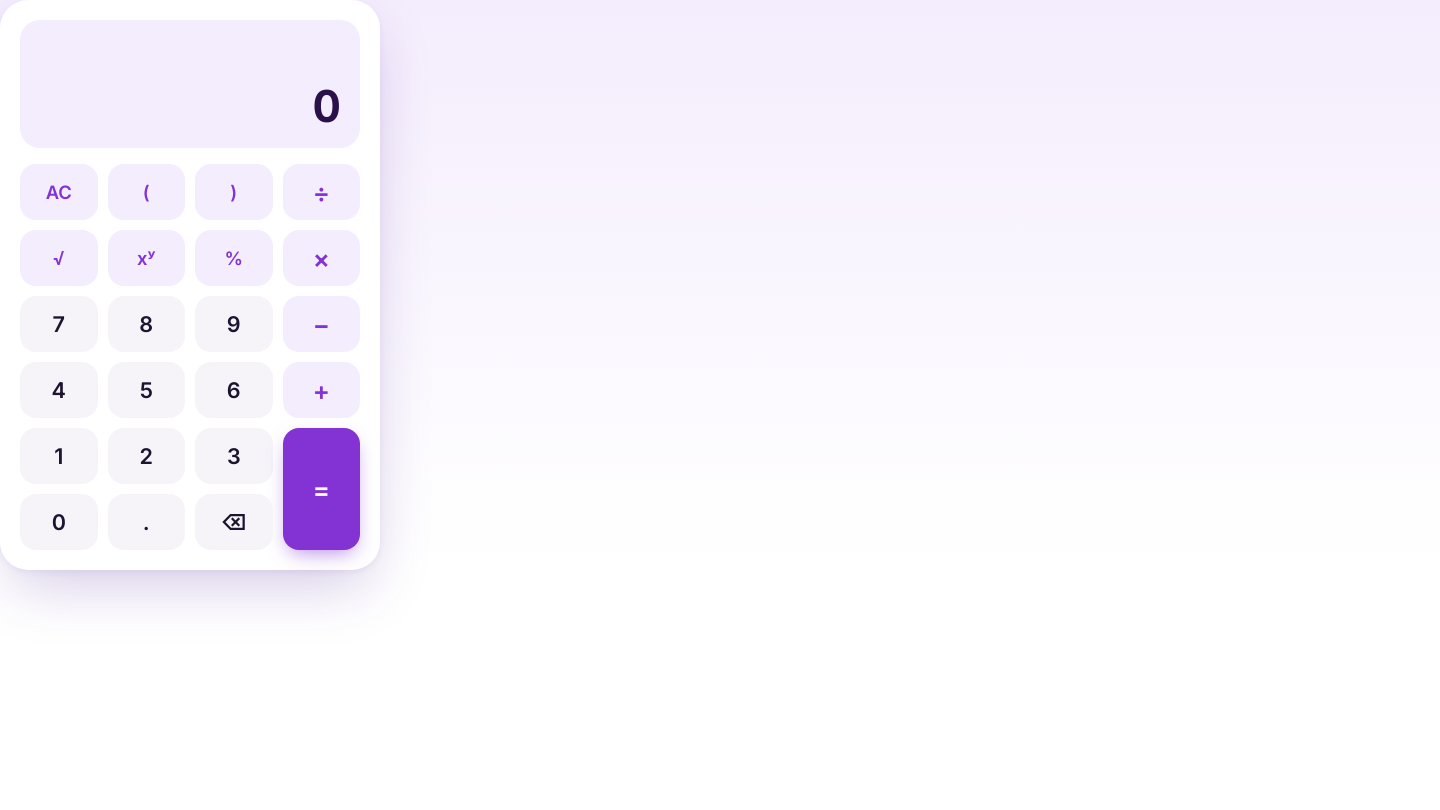
Test: Calculator › shows a friendly message when the server is unreachable
What coordinates should you click on to do the following:
click the button "1"
I would click on:
 (59, 456)
Its box is left=20, top=428, right=98, bottom=484.
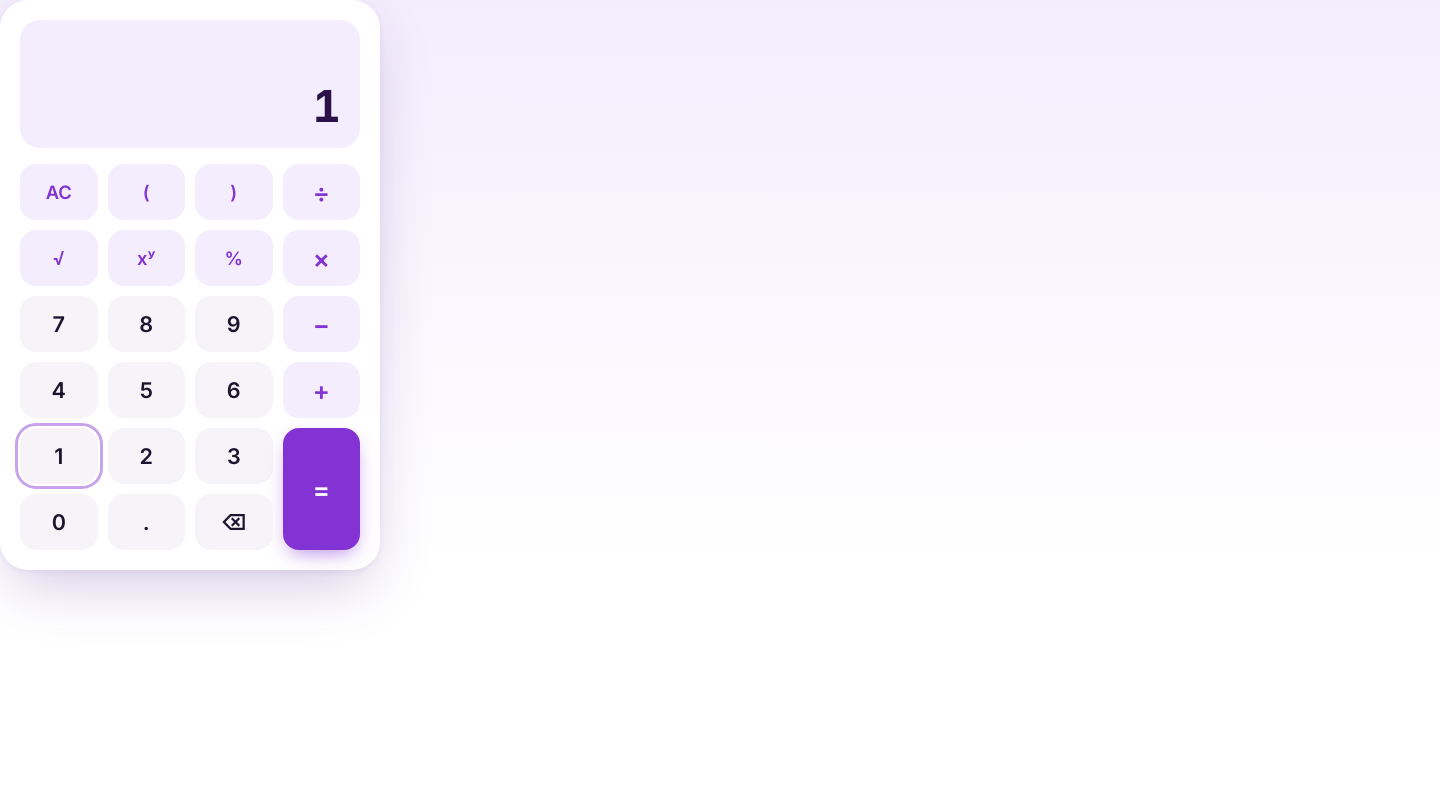
What coordinates should you click on to do the following:
click the button named "Add"
I would click on:
 (321, 390)
Its box is left=282, top=362, right=360, bottom=418.
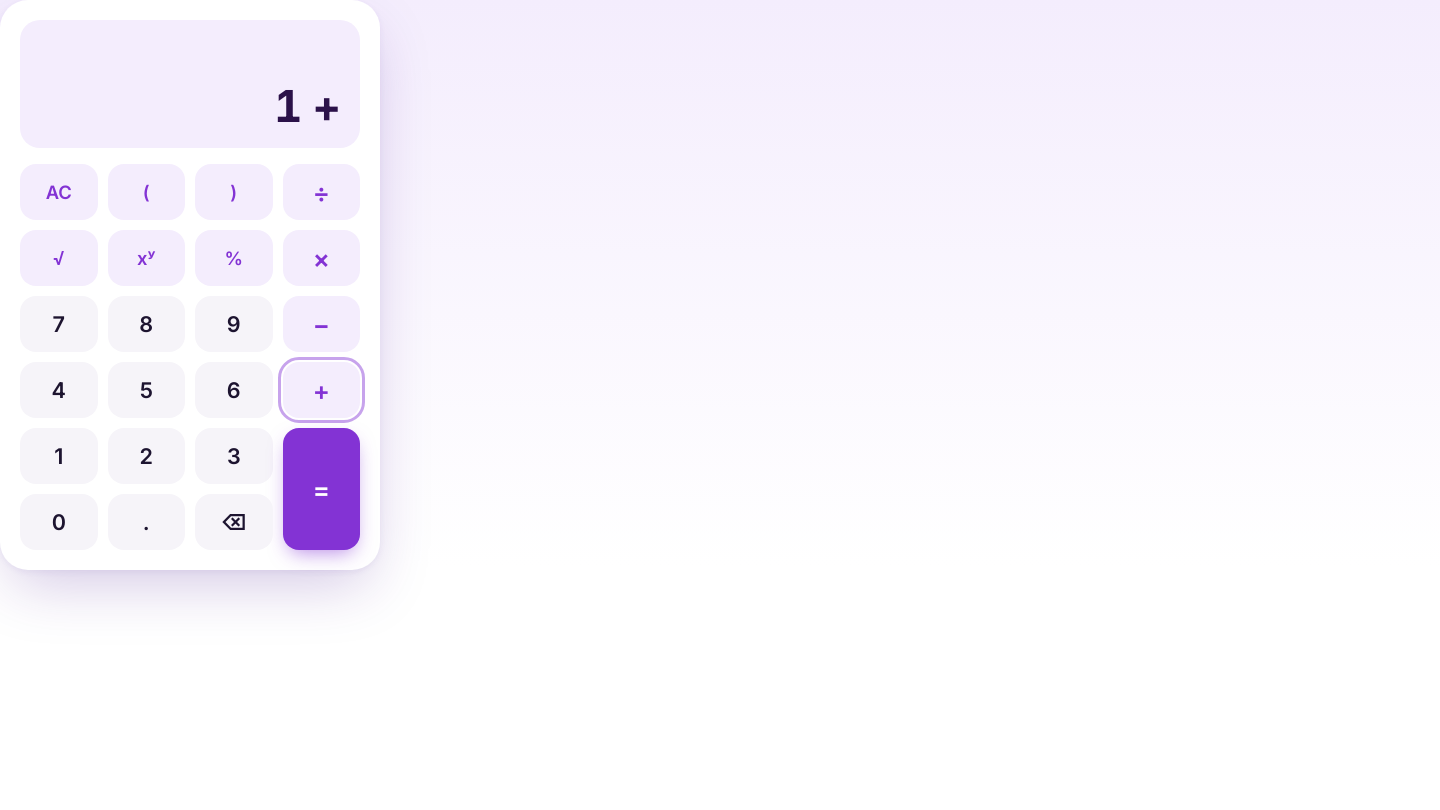
What coordinates should you click on to do the following:
click the button "1"
I would click on:
 (59, 456)
Its box is left=20, top=428, right=98, bottom=484.
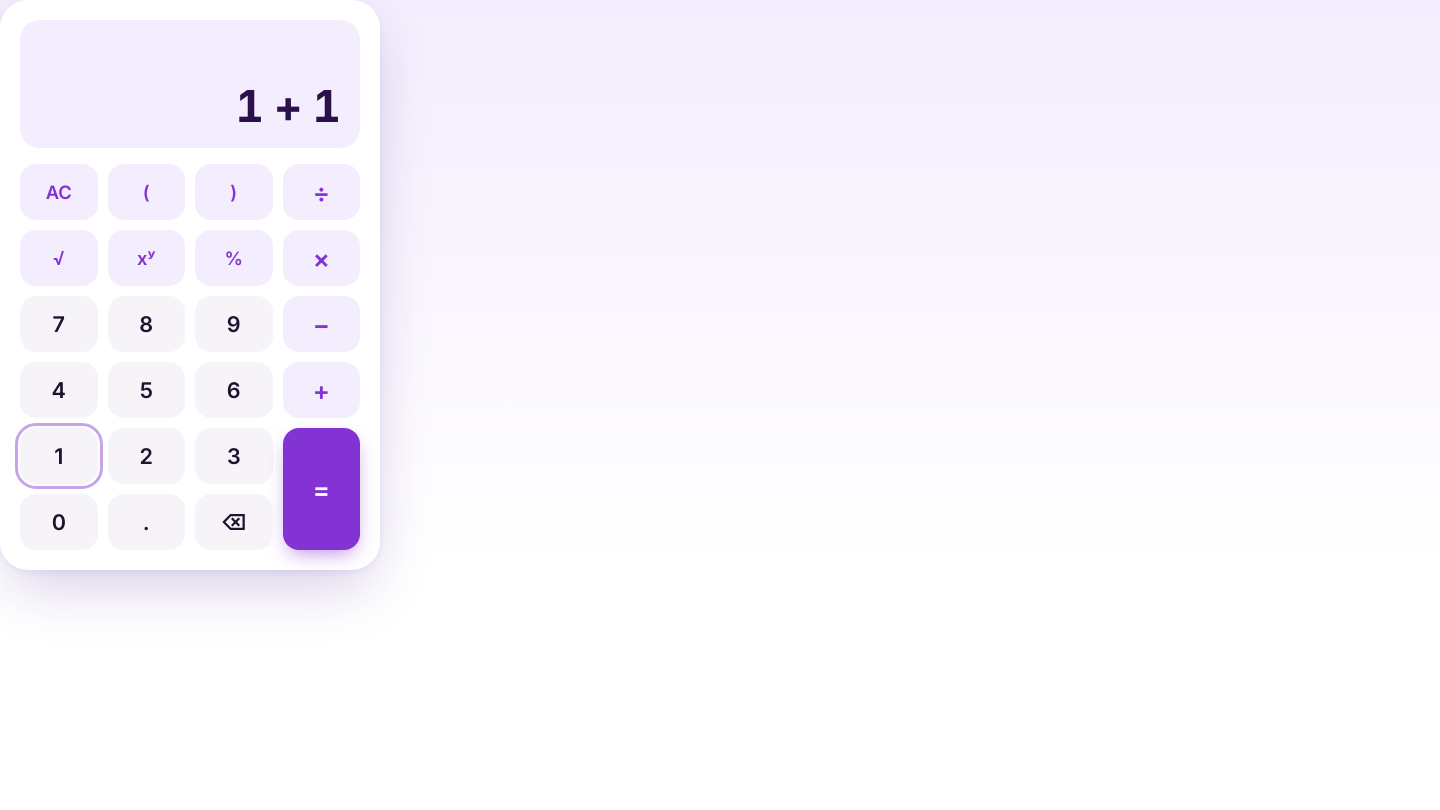
What coordinates should you click on to do the following:
click the button named "Equals"
I would click on:
 (321, 489)
Its box is left=282, top=428, right=360, bottom=550.
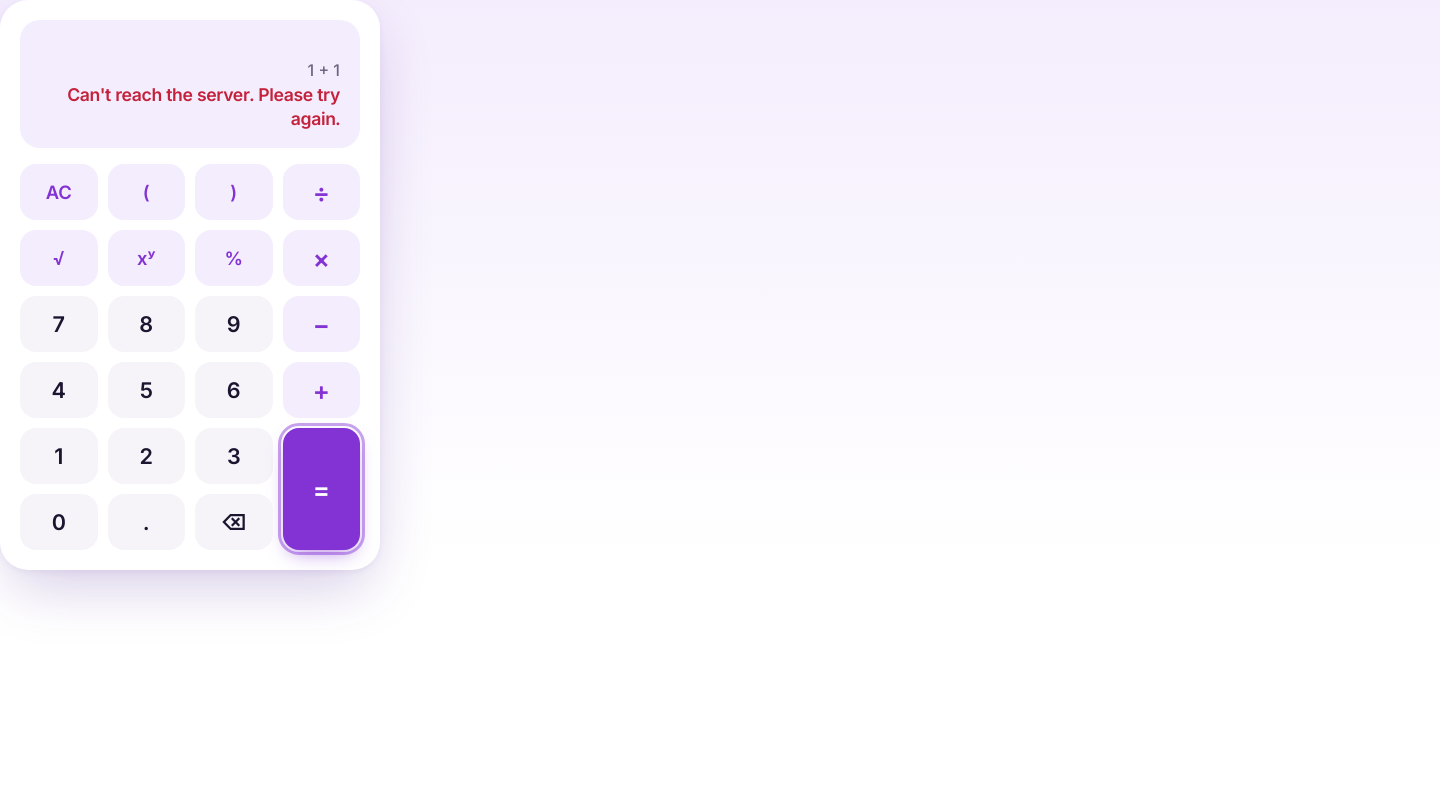
Now the text named "Display" reads "Can't reach the server. Please try again.", box left=67, top=84, right=340, bottom=129
